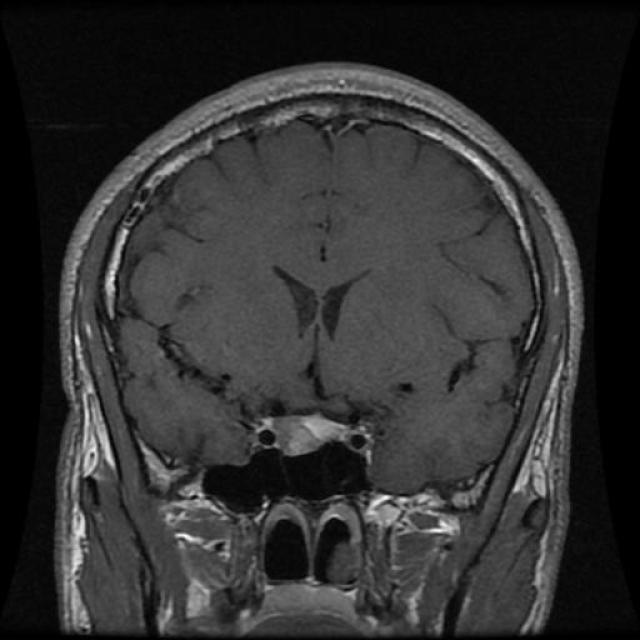pituitary: (240, 394, 378, 460)
